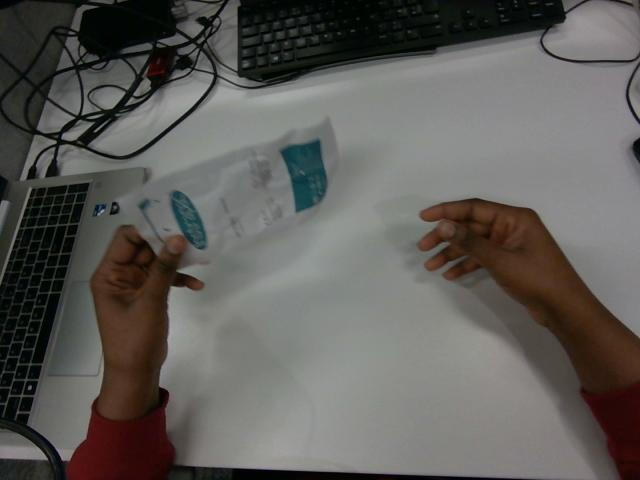gallipot: (118, 118, 337, 266)
